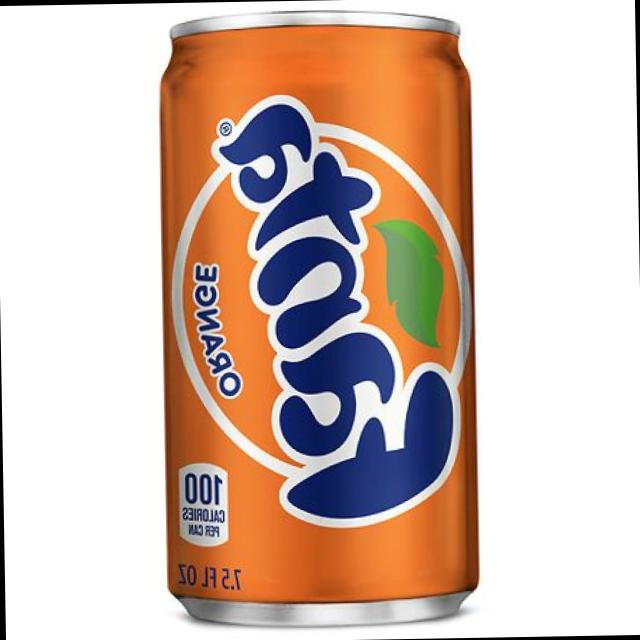fanta: (150, 6, 489, 626)
